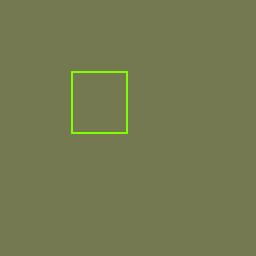Safety Vest: (71, 71, 127, 133)
